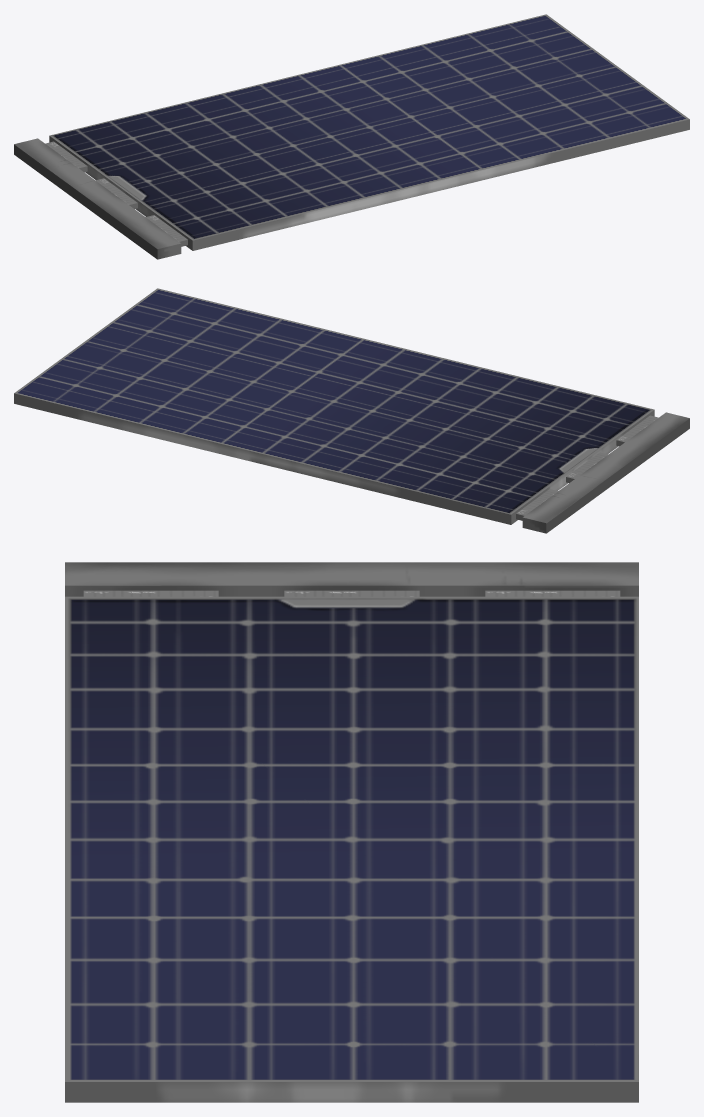
The model's file is spaceStation_solarPanel.fbx.
The picture shows the model from 3 angles, top to bottom: view 1: azimuth 30°, elevation 25°; view 2: azimuth 150°, elevation 25°; view 3: azimuth 270°, elevation 25°; orthographic projection. The views are drawn at different scales.
Visible parts, largest first — view 1: solPanel; view 2: solPanel; view 3: solPanel.
Boxes of the visible parts, x1=… form: solPanel: x1=14, y1=14, x2=689, y2=259; solPanel: x1=14, y1=288, x2=689, y2=533; solPanel: x1=65, y1=562, x2=638, y2=1102.
Size of the model in its own units: 4.28 by 0.08 by 2.
